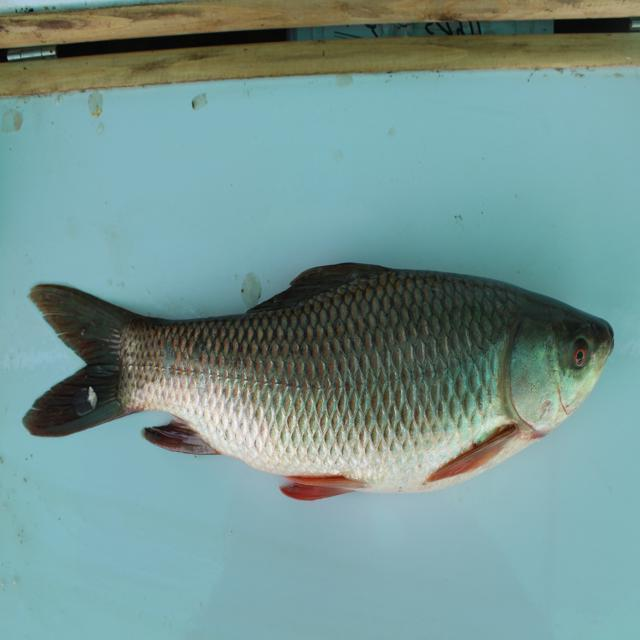Grass Carp: (15, 253, 617, 515)
